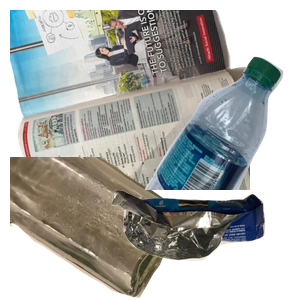glass: (10, 157, 190, 300)
paper: (10, 10, 250, 190)
plastic: (142, 54, 300, 234)
trash: (109, 187, 300, 300)
